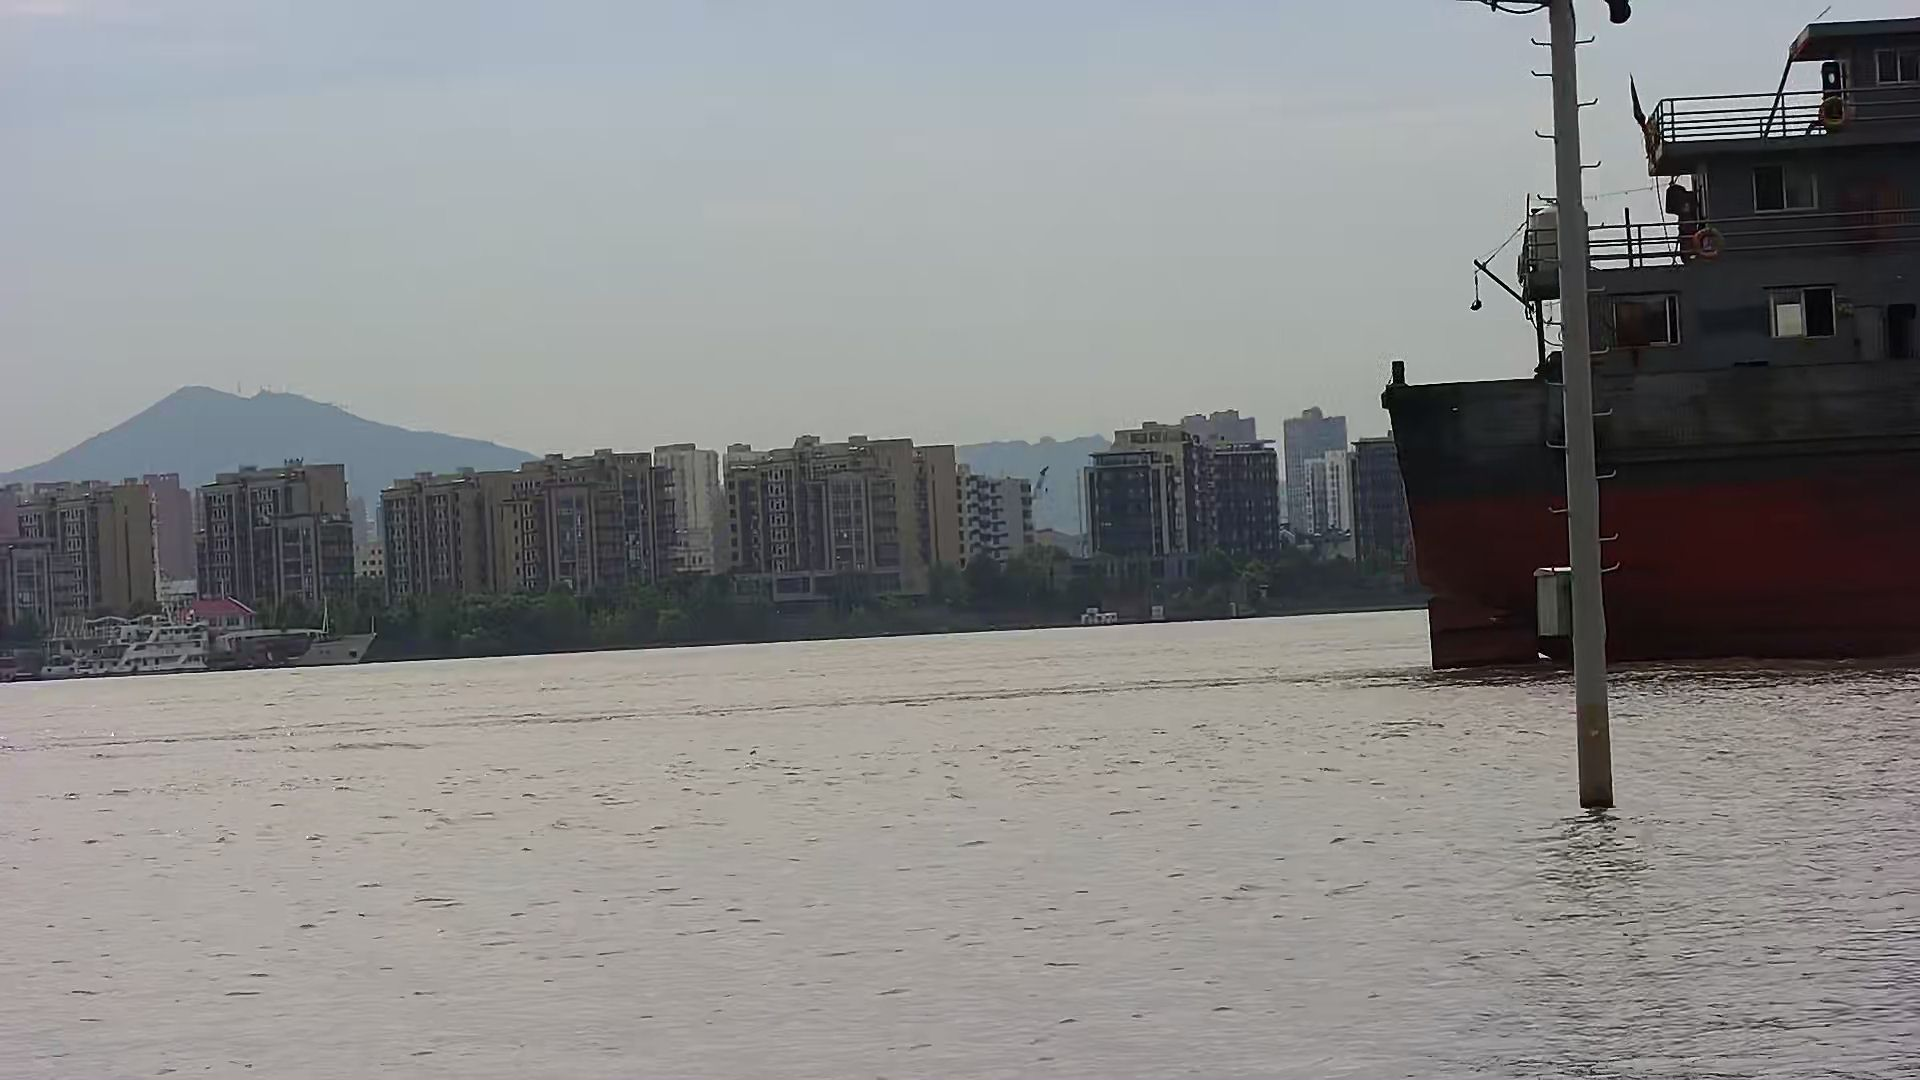mast: (1531, 3, 1618, 829)
ship: (1379, 16, 1920, 670), (42, 616, 204, 676), (211, 632, 376, 667)
